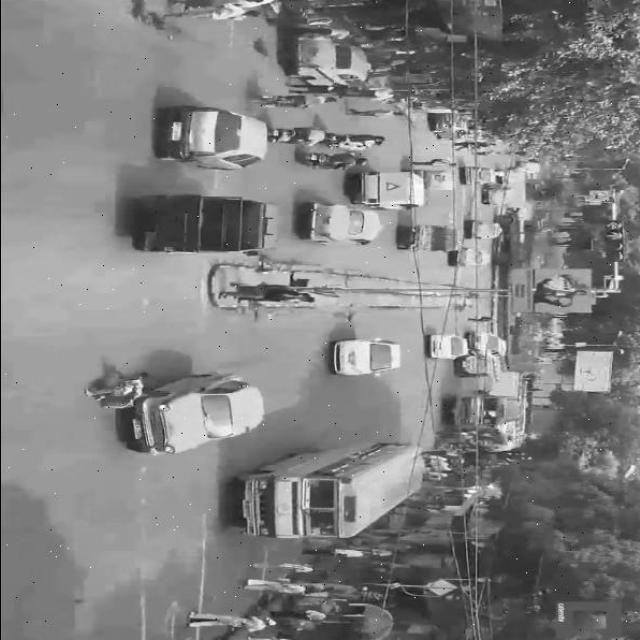non_accident: (295, 158, 437, 246), (268, 30, 372, 120), (268, 79, 332, 179), (321, 136, 371, 174)
